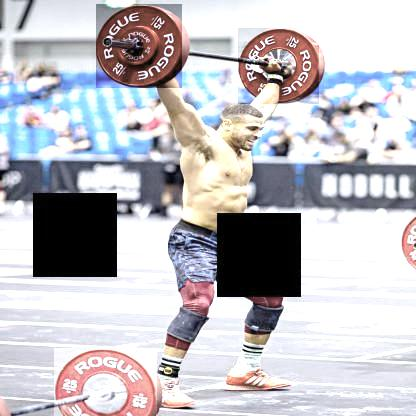barbell: (96, 5, 183, 88), (54, 348, 157, 416), (238, 28, 320, 105)
